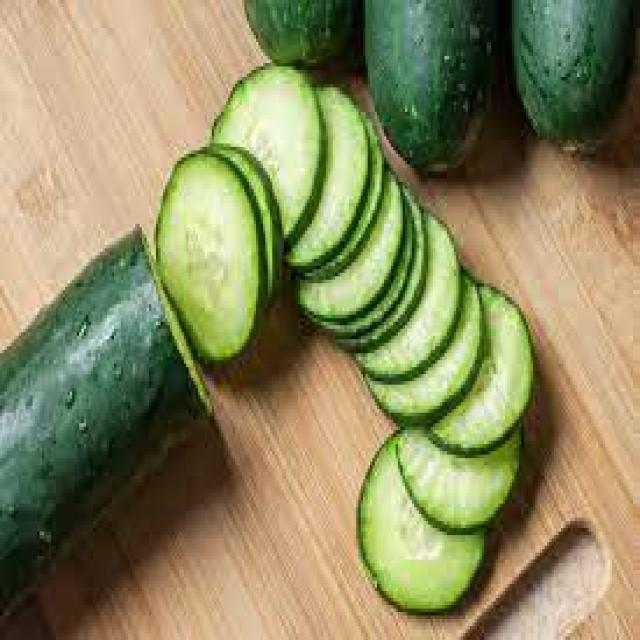Pickle: (0, 227, 204, 611), (360, 434, 485, 611), (156, 152, 259, 360), (366, 0, 485, 170), (213, 64, 323, 239), (366, 272, 481, 424), (357, 212, 459, 380), (431, 286, 534, 452), (514, 0, 631, 140), (287, 86, 369, 269), (299, 171, 401, 318), (337, 186, 424, 350), (303, 113, 384, 279), (397, 426, 521, 531), (245, 0, 361, 67)
